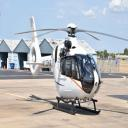helicopter: (16, 17, 128, 118)
